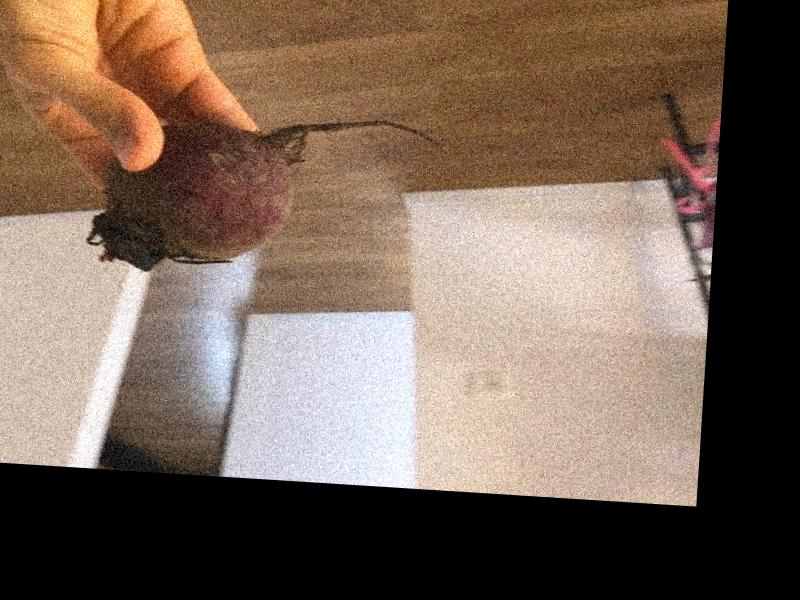Beet: (89, 103, 447, 287)
